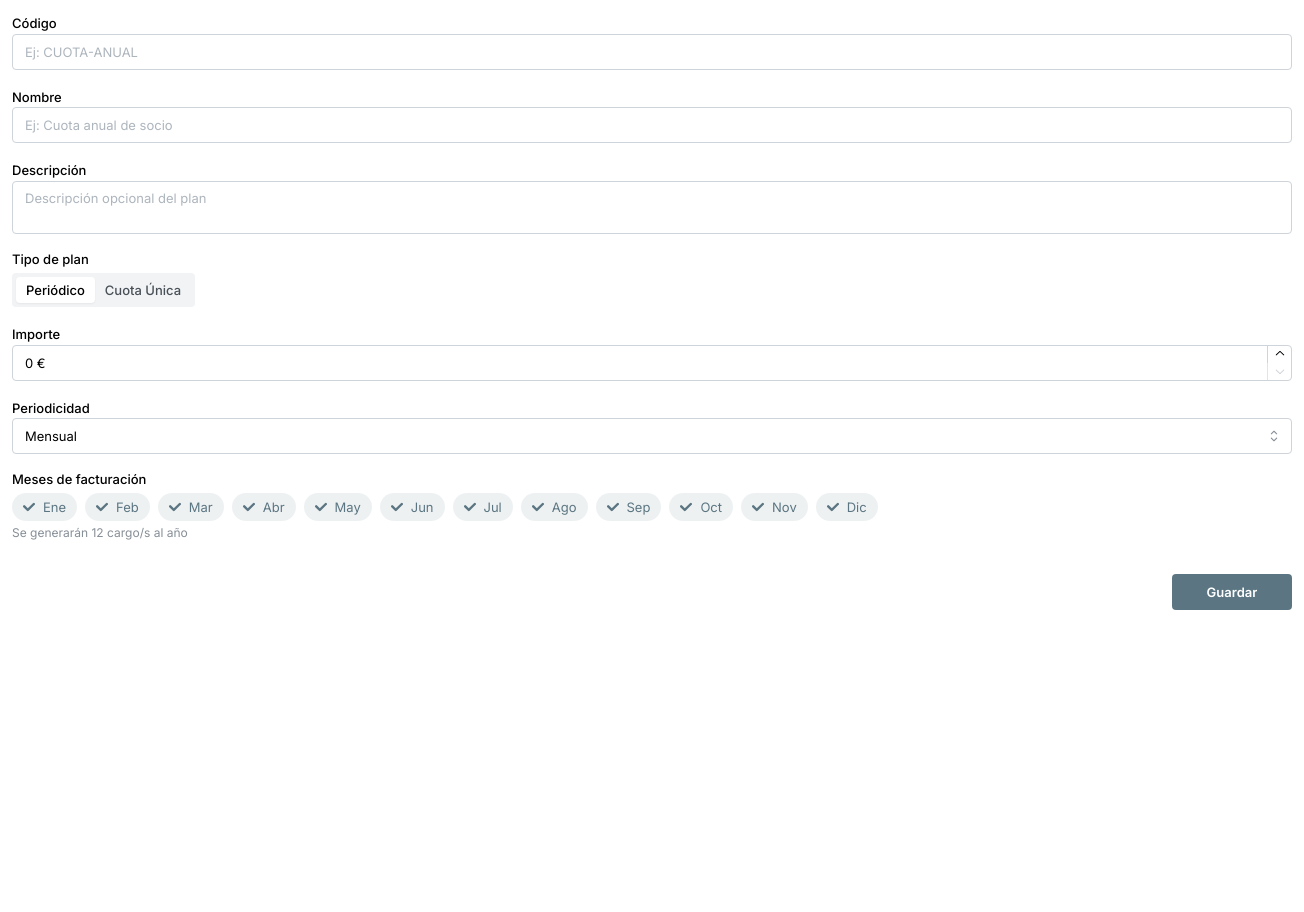
FeePlanForm › validacion de formulario › deberia mostrar error de validacion cuando el nombre esta vacio
enviar sin llenar nombre
In the field with placeholder "Ej: CUOTA-ANUAL": (652, 52) 12,34 -> 1292,70, type "TEST"
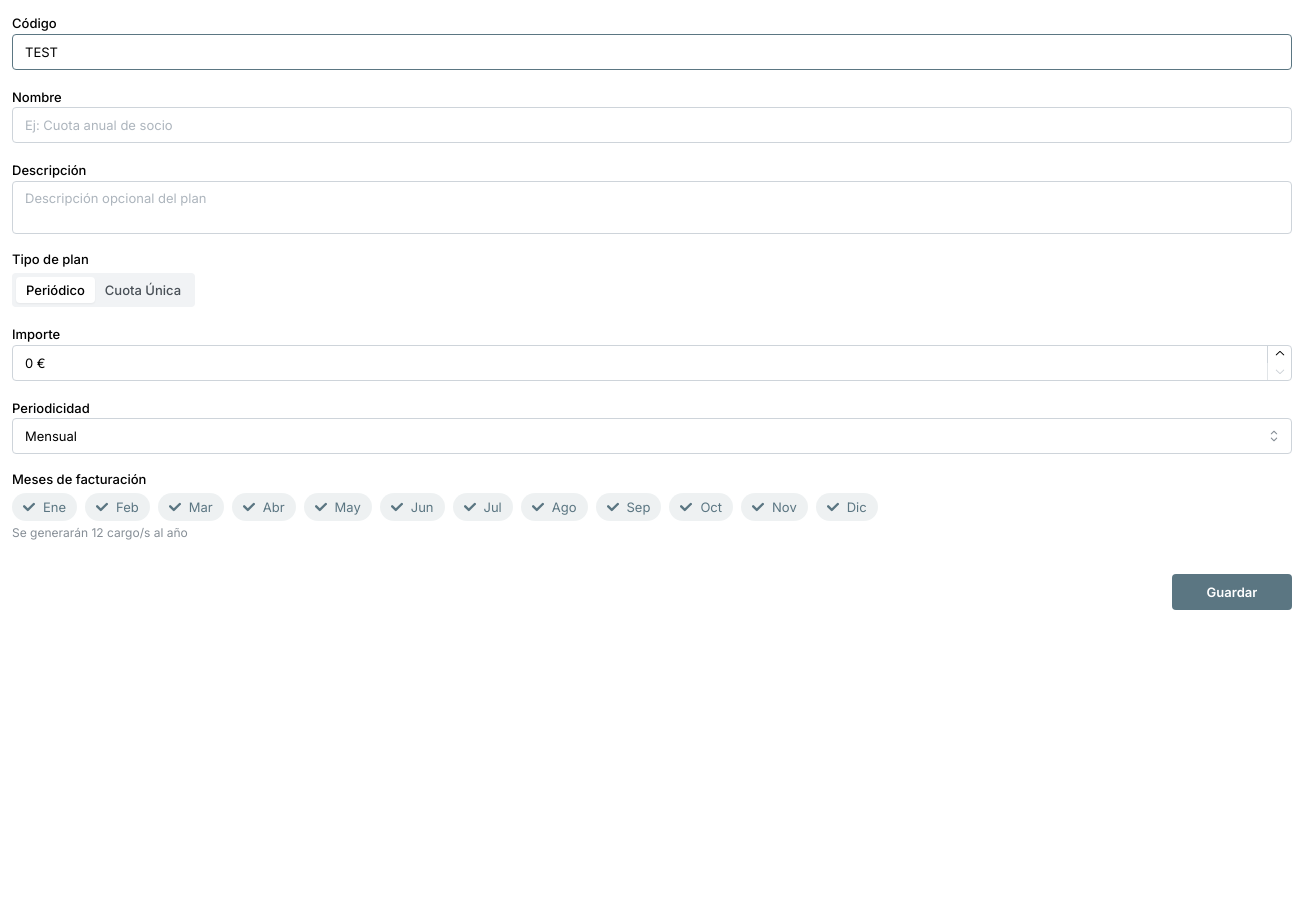
Replace the text in the field labelled "Importe" with "10": (652, 363) 12,345 -> 1292,381
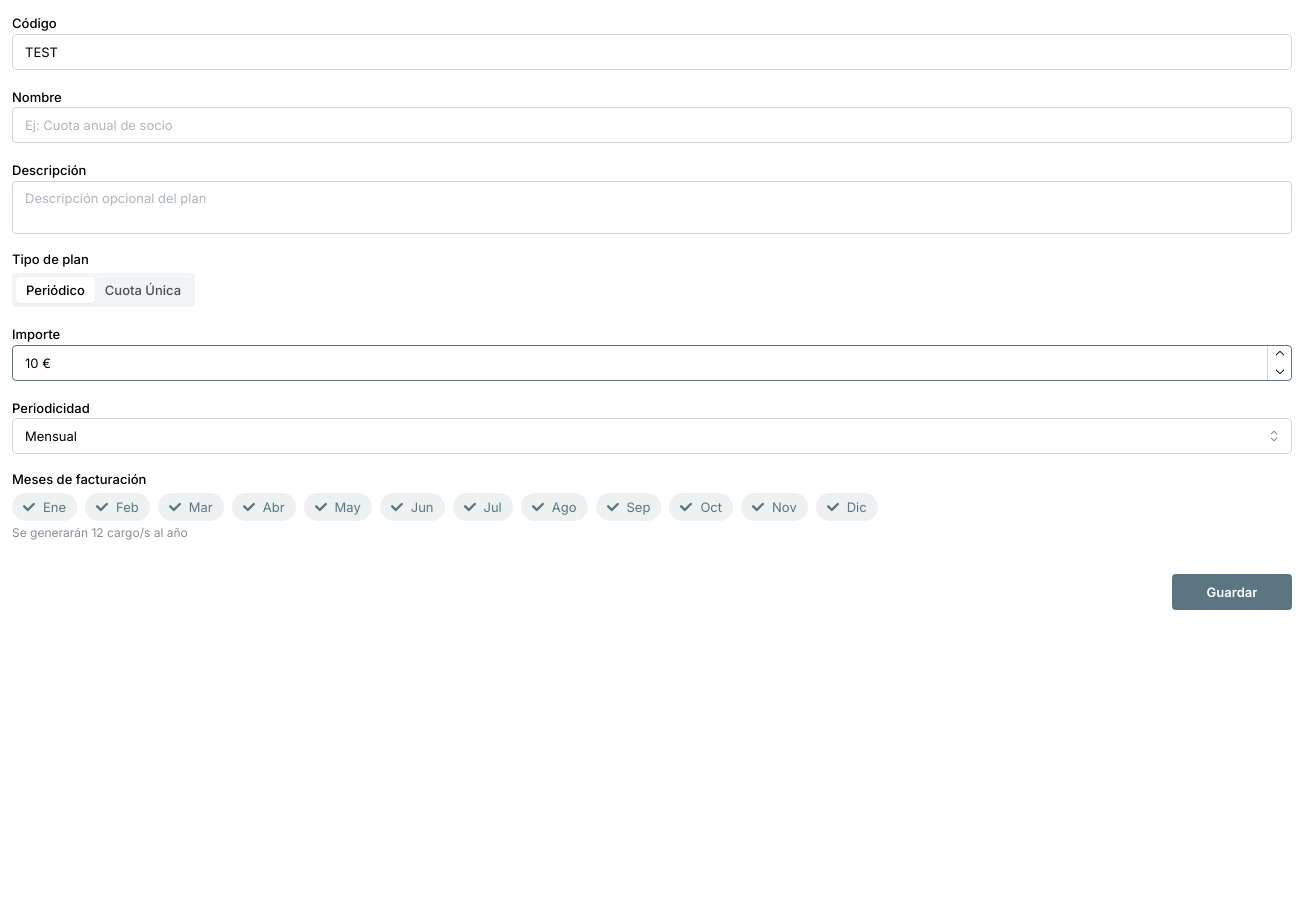
Click the button "Guardar": (1232, 592) 1172,574 -> 1292,610
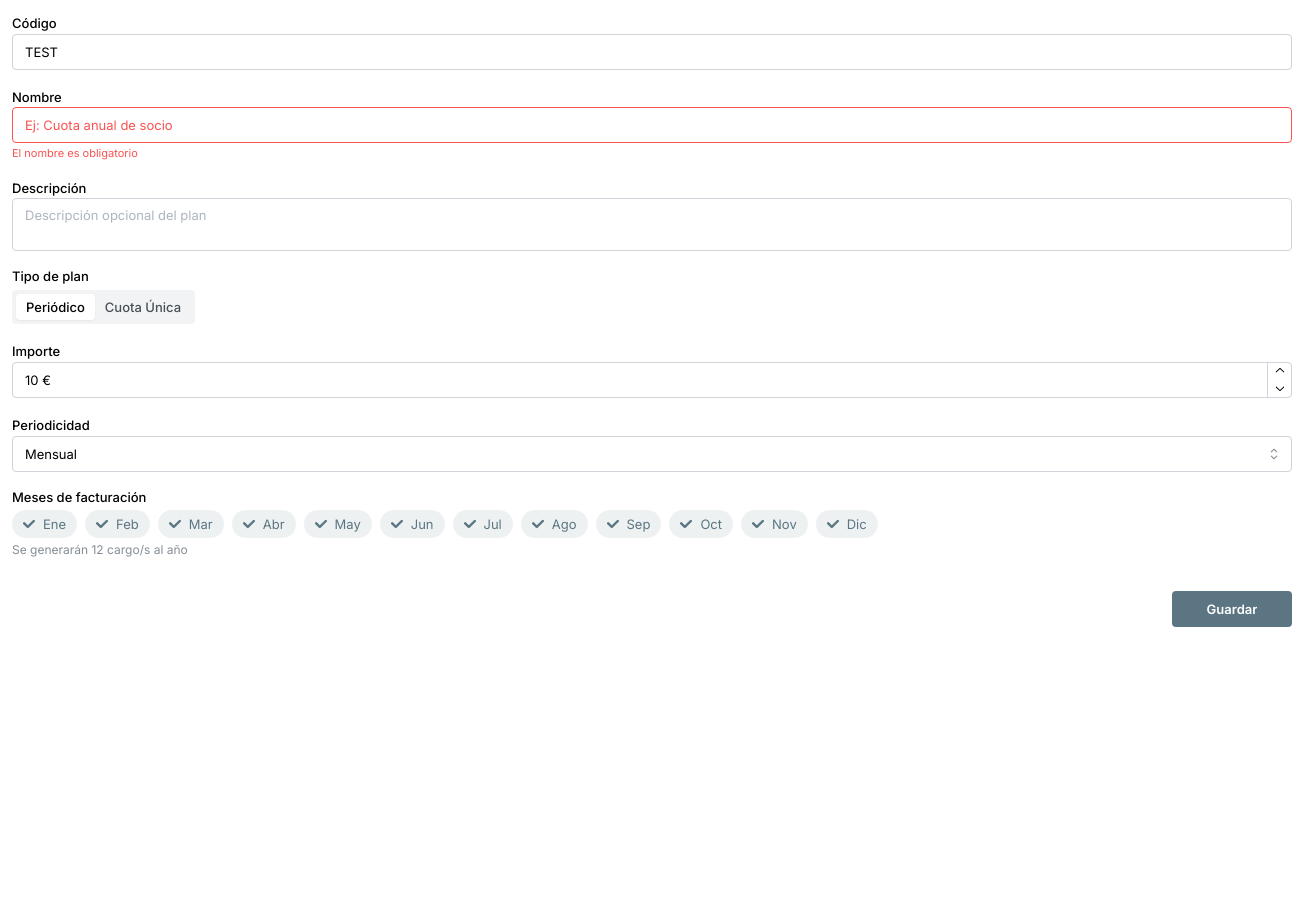
Result: the text "El nombre es obligatorio" is shown at 12,146 -> 138,160
